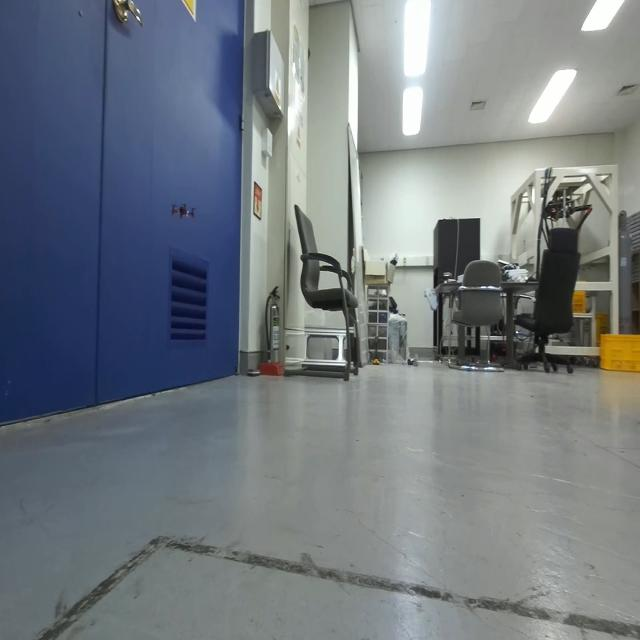crazyflie: (167, 194, 199, 230)
